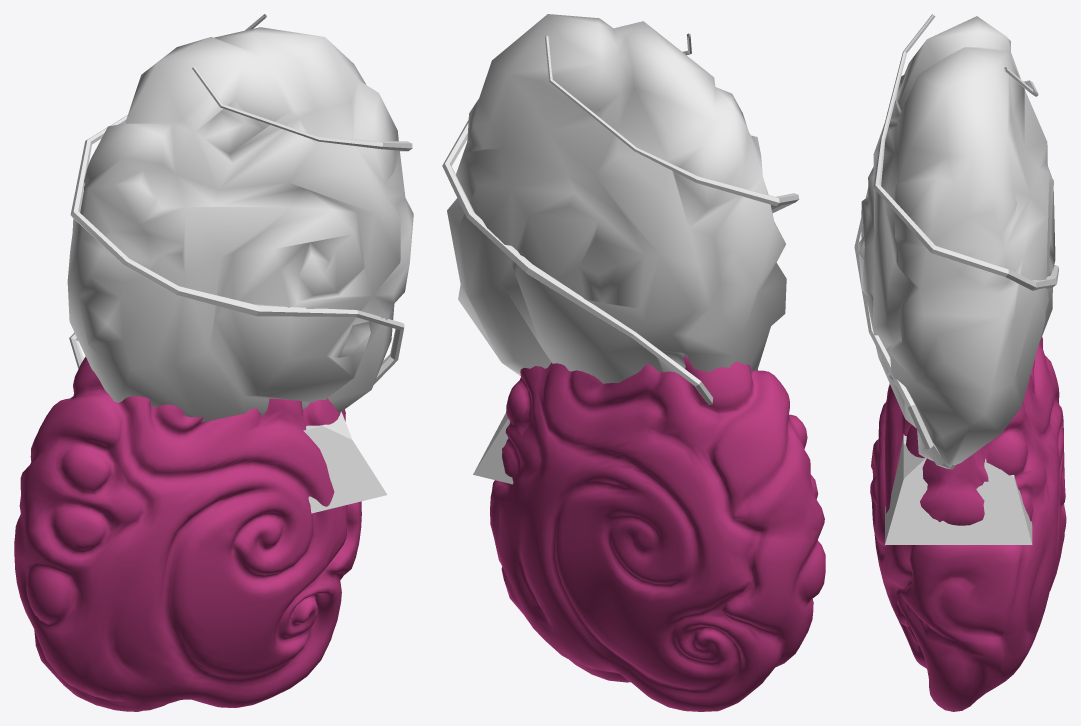
File: Gema_Dragon_con_base.fbx
3 renders of one model, left to right at view 1: azimuth 30°, elevation 25°; view 2: azimuth 150°, elevation 25°; view 3: azimuth 270°, elevation 25°, orthographic.
Visible parts, largest first — view 1: Gema Dragon LOW, Gema Dragon HIGH.001, Vert.001, Cube, Vert; view 2: Gema Dragon LOW, Gema Dragon HIGH.001, Vert, Vert.001, Cube; view 3: Gema Dragon LOW, Gema Dragon HIGH.001, Cube, Vert, Vert.001.
Boxes of the visible parts, x1,y1,x2,y2 form: Gema Dragon LOW: (67, 27, 413, 422); Gema Dragon HIGH.001: (14, 356, 361, 711); Vert.001: (70, 14, 404, 384); Cube: (303, 412, 387, 513); Vert: (69, 66, 412, 368); Gema Dragon LOW: (447, 14, 786, 383); Gema Dragon HIGH.001: (490, 355, 825, 711); Vert: (442, 33, 713, 405); Vert.001: (545, 36, 799, 212); Cube: (473, 413, 513, 484); Gema Dragon LOW: (858, 16, 1055, 467); Gema Dragon HIGH.001: (870, 337, 1066, 711); Cube: (885, 434, 1032, 544); Vert: (873, 14, 1058, 290); Vert.001: (854, 67, 1038, 469).
Bounding box in the file's own units: 320 × 553 × 161.
